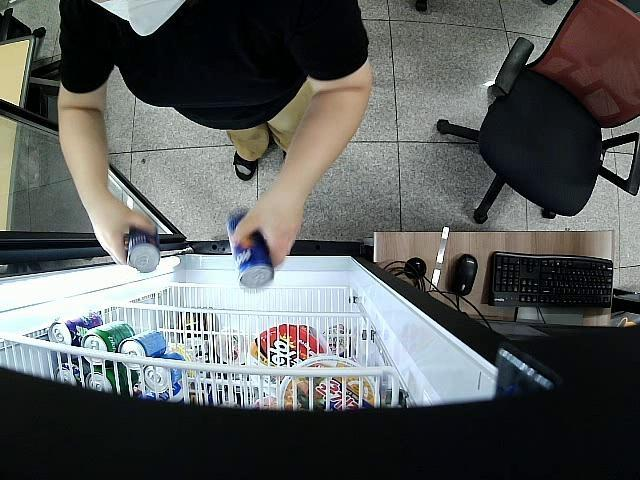16_hot6: (223, 209, 276, 292), (124, 230, 162, 272)
